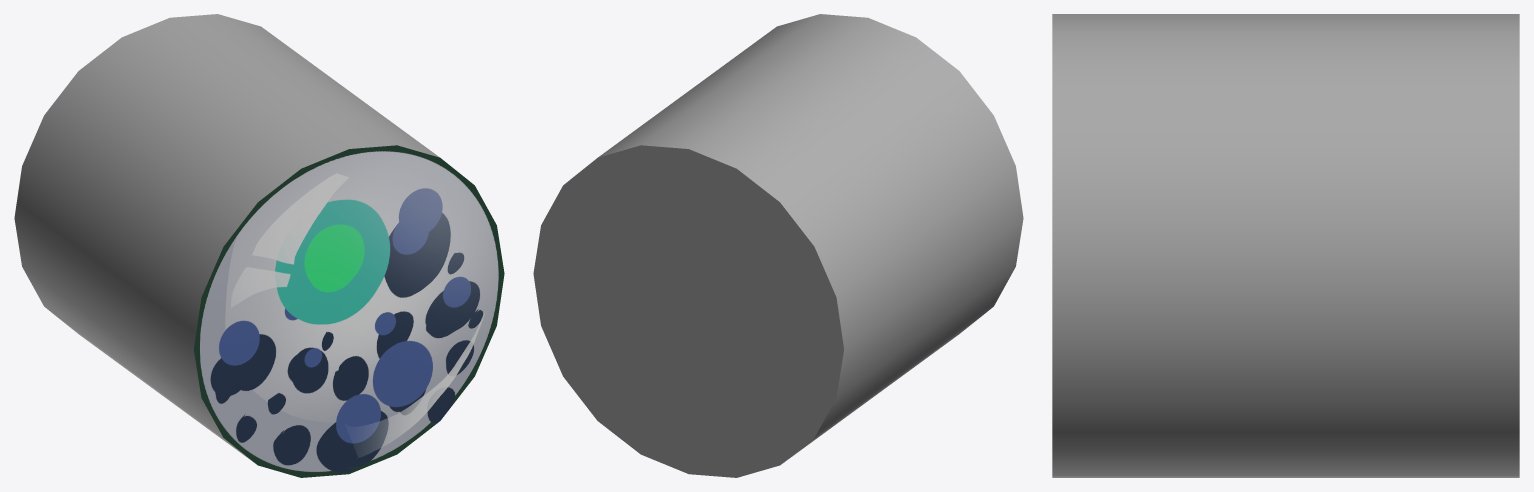
The model's file is xibao03.fbx.
3 renders of one model, left to right at view 1: azimuth 30°, elevation 25°; view 2: azimuth 150°, elevation 25°; view 3: azimuth 270°, elevation 25°, orthographic. The views are drawn at different scales.
Parts seen in each view (by area): view 1: pCylinder1; view 2: pCylinder1; view 3: pCylinder1.
Part boxes in pixels (x1,y1,x2,y2): pCylinder1: (14, 14, 504, 477); pCylinder1: (533, 14, 1023, 477); pCylinder1: (1052, 14, 1519, 477).
Size of the model in its own units: 2.21 by 2.21 by 2.21.
